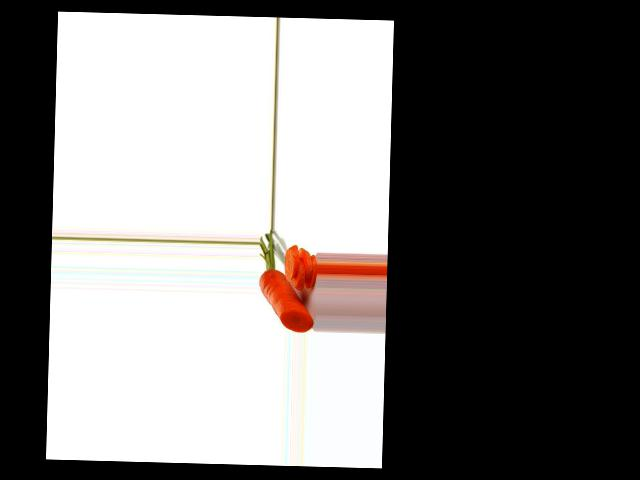carrot: (257, 268, 311, 328)
